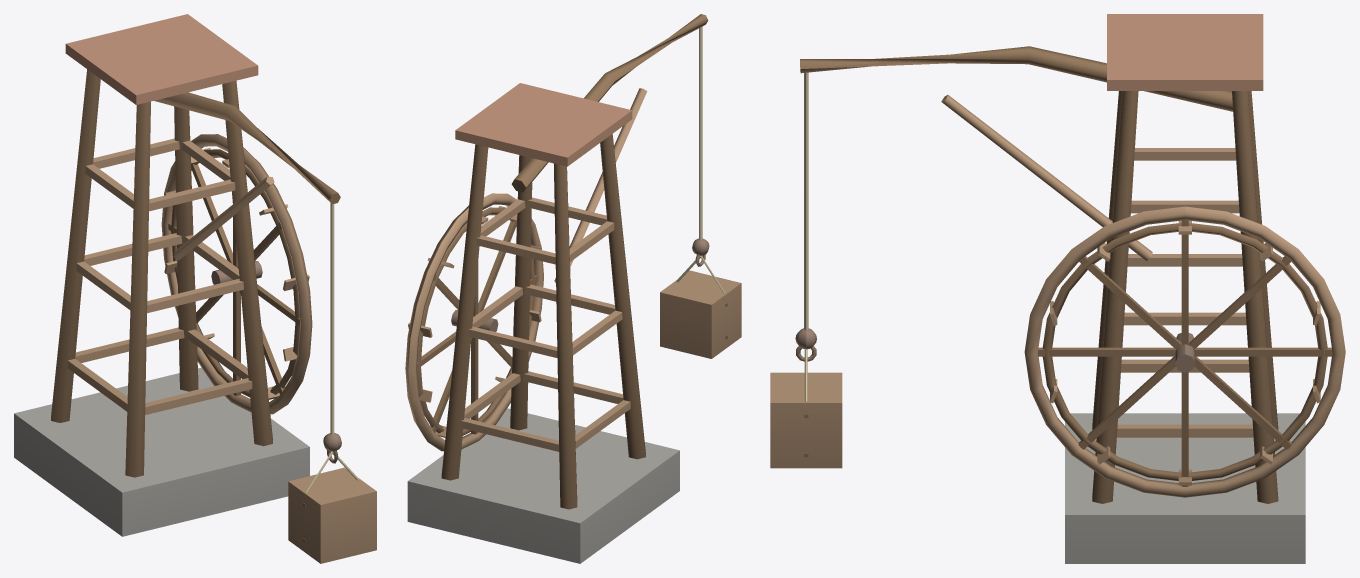
The model's file is kran_rad.glb.
3 views of the same model, side by side, from view 1: azimuth 30°, elevation 25°; view 2: azimuth 150°, elevation 25°; view 3: azimuth 270°, elevation 25° (orthographic). The views are drawn at different scales.
Visible parts, largest first — view 1: G_kran_rad; view 2: G_kran_rad; view 3: G_kran_rad.
Part boxes in pixels (x1,y1,x2,y2): G_kran_rad: (14,14,376,563); G_kran_rad: (405,14,741,563); G_kran_rad: (770,14,1345,563).
Size of the model in its own units: 4.05 by 8.55 by 9.57.
